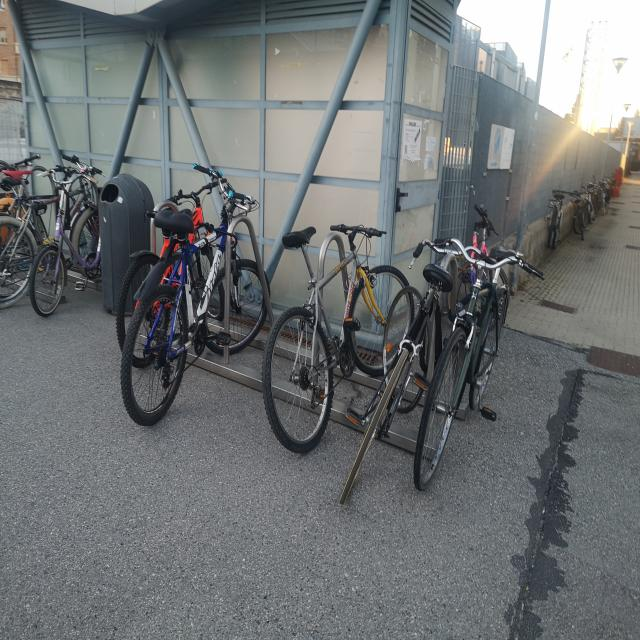Bicycle: (83, 160, 275, 427), (235, 213, 423, 474), (326, 216, 474, 515), (420, 234, 530, 495), (103, 182, 228, 366), (35, 164, 108, 314), (9, 170, 94, 285), (538, 173, 566, 256), (569, 184, 589, 262)
